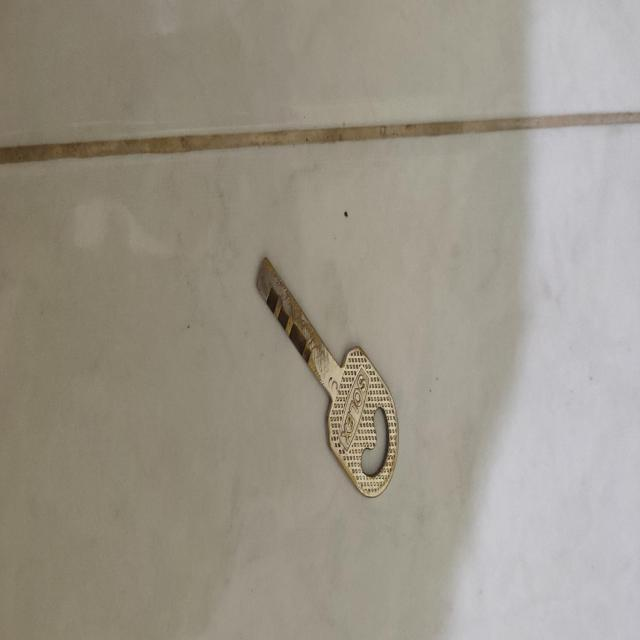kunci_pagar: (251, 249, 404, 516)
